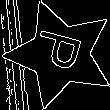P_E: (29, 30, 91, 79)
